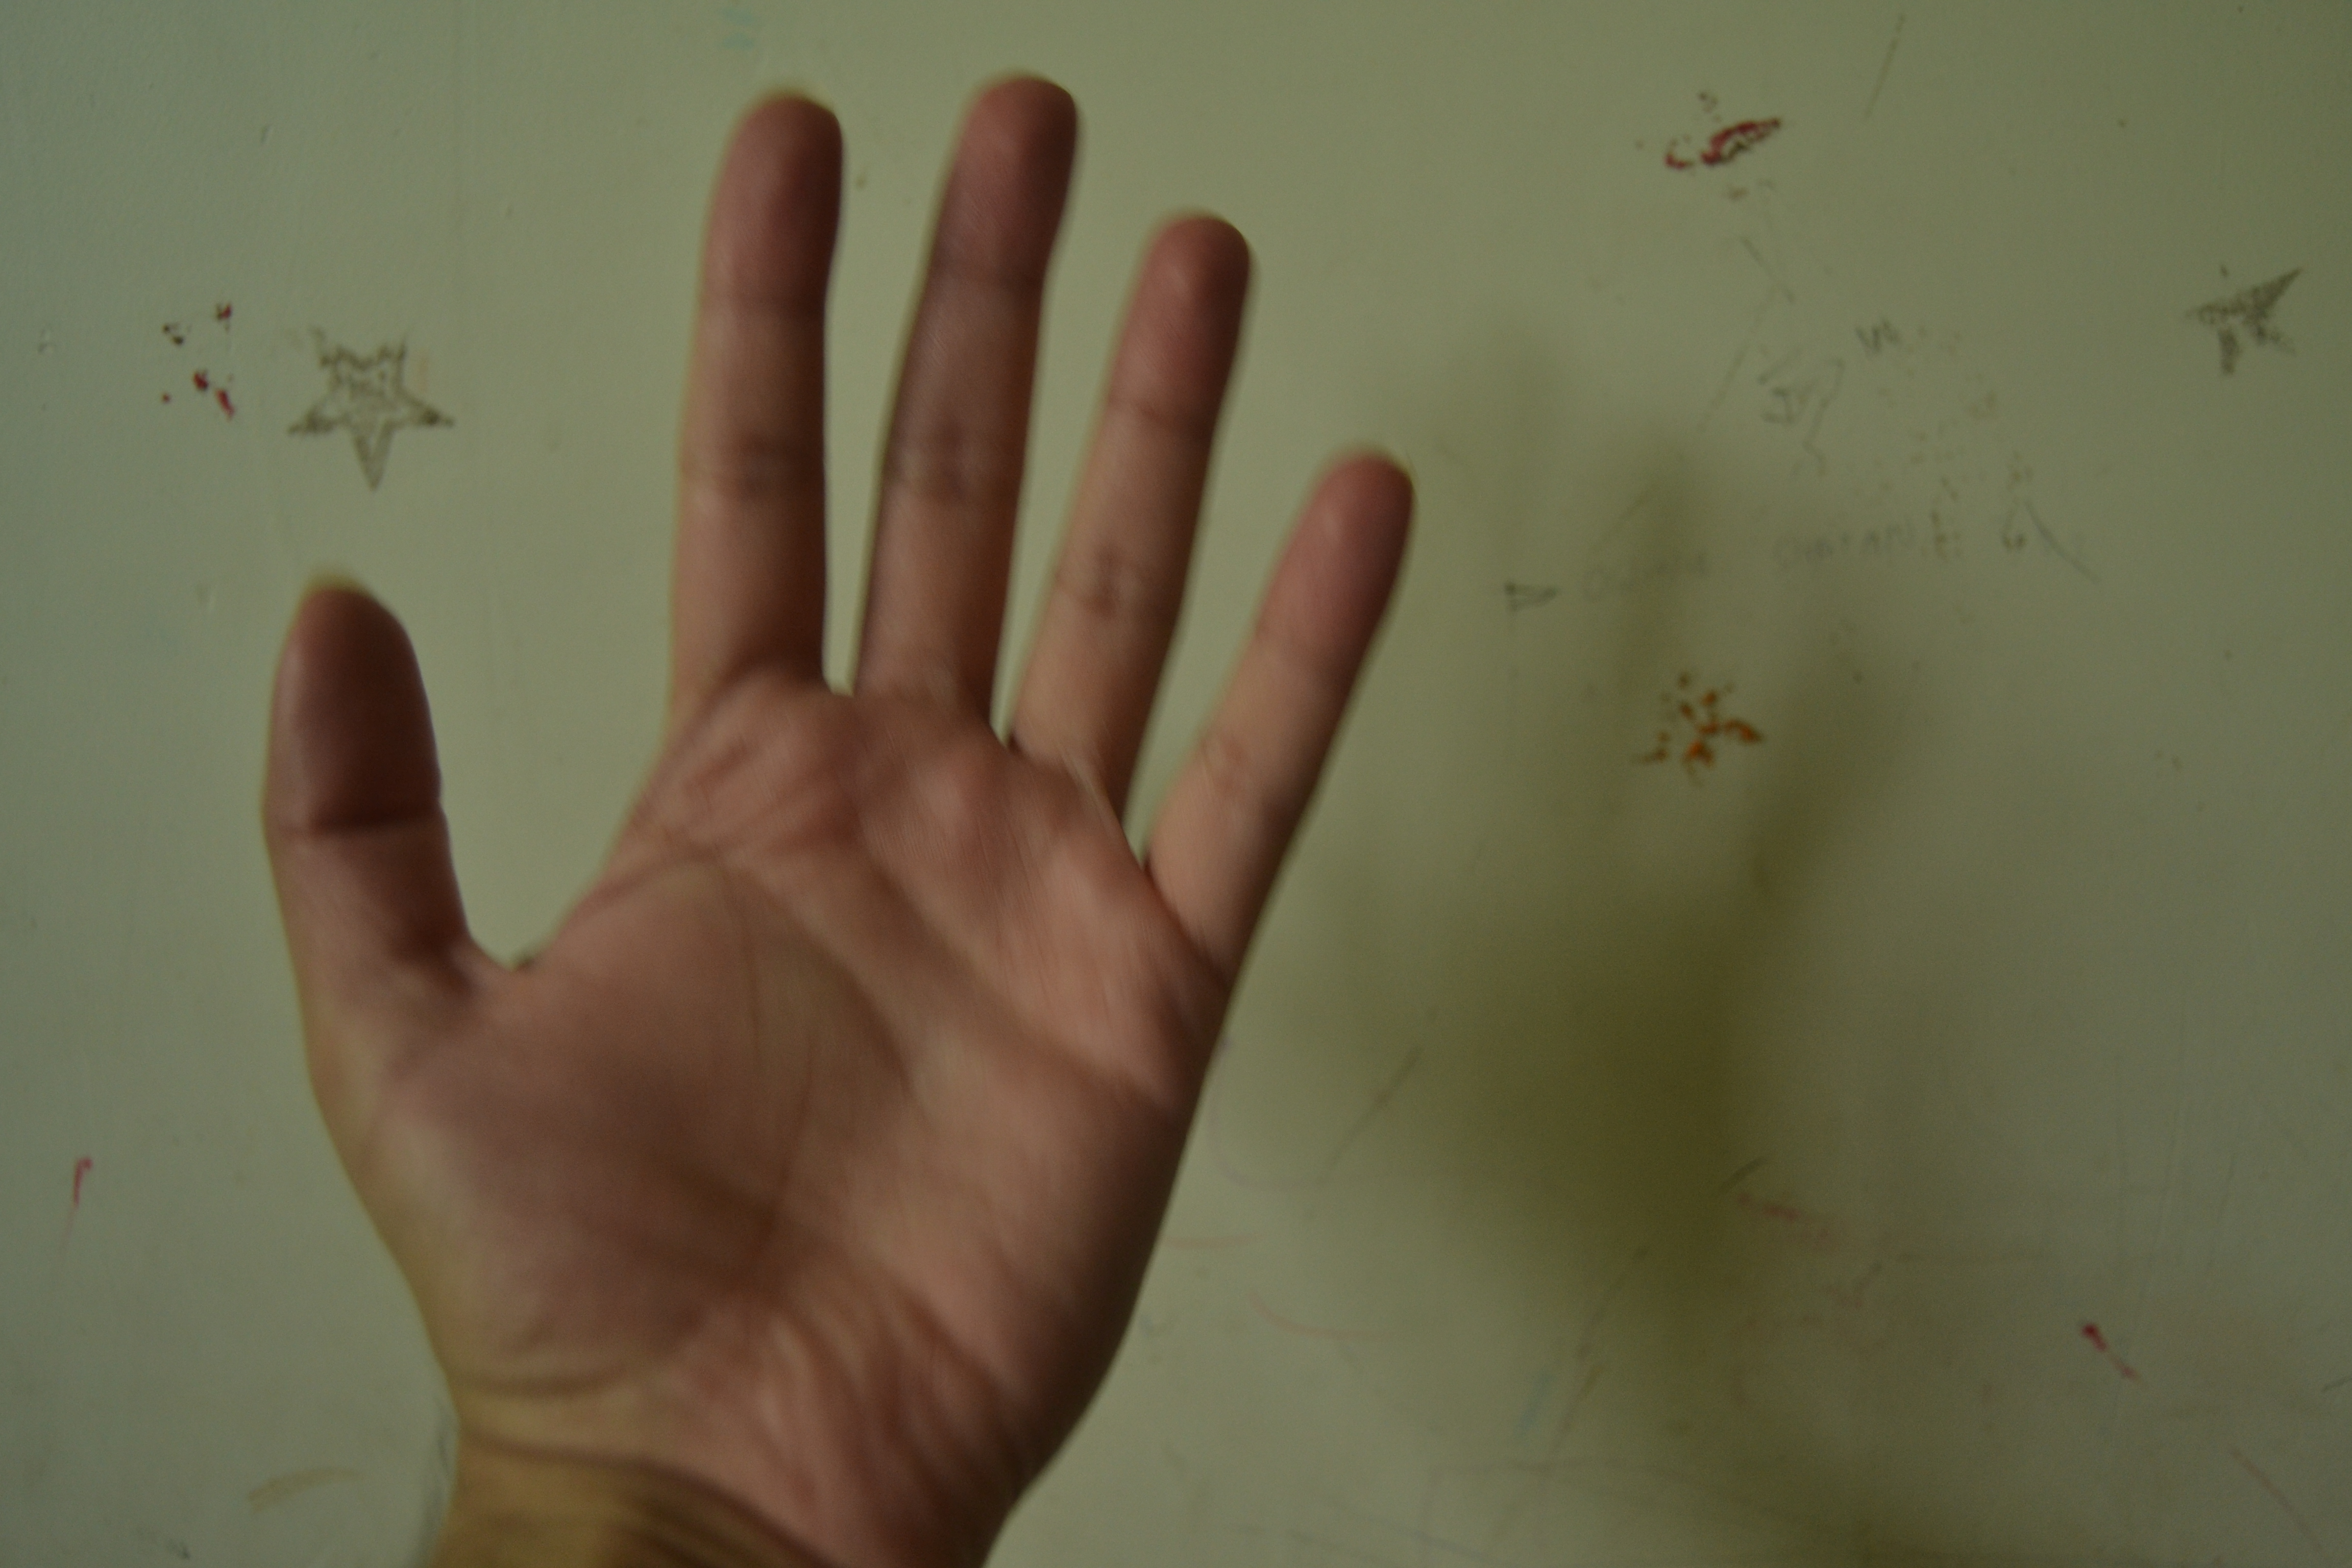move: (243, 84, 1421, 1459)
